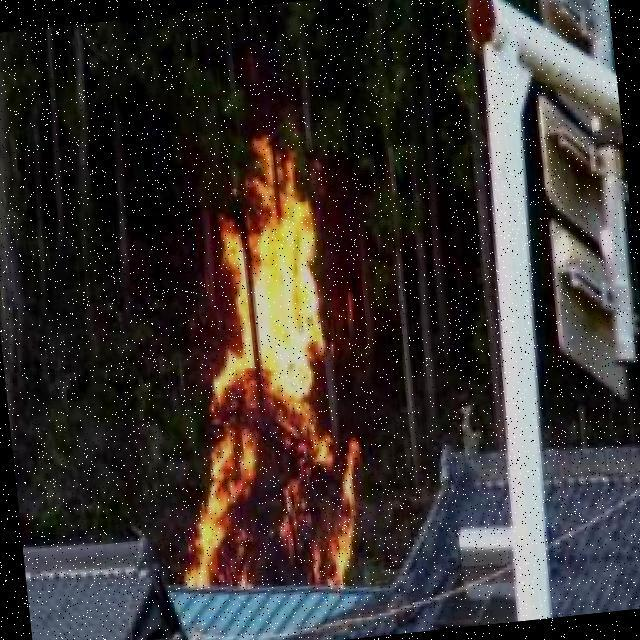Fire: (150, 154, 367, 610)
